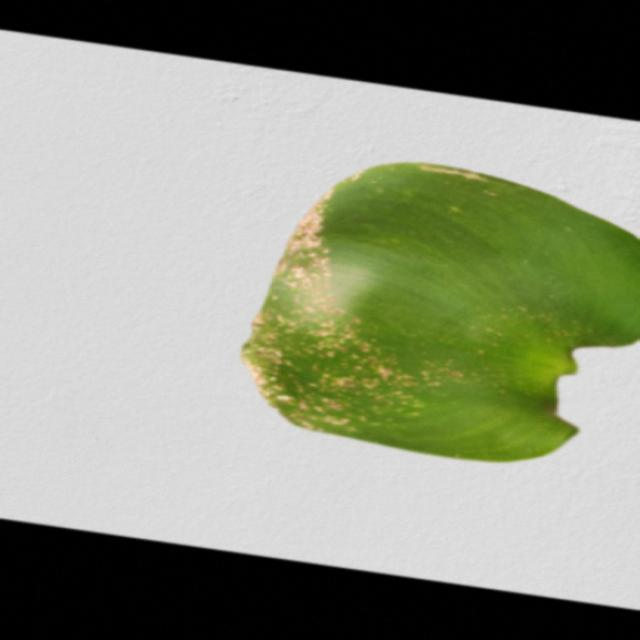daun berpenyakit bercak: (244, 164, 638, 462)
